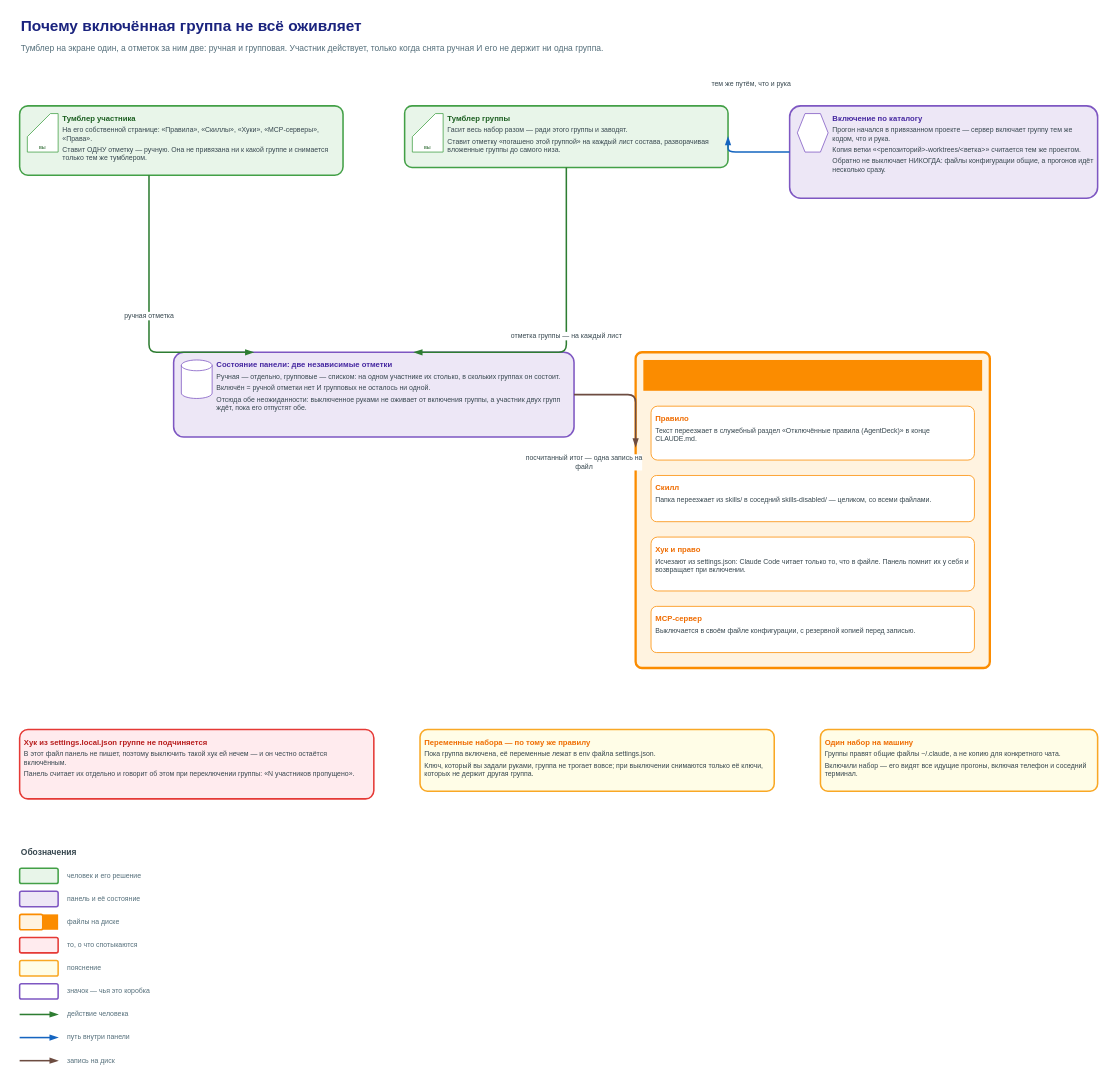
Image size: 1111x1081. Some labels were removed from this diagram. The shapes that lost their labels are listed below. From the top down, each one's box as (x1, y1, x2, y2) in pixels, then its label:
(797, 113, 828, 152): API
(181, 359, 212, 398): state
(643, 360, 982, 390): Что «выключено» значит на диске запись в файлы, а не флаг в интерфейсе
